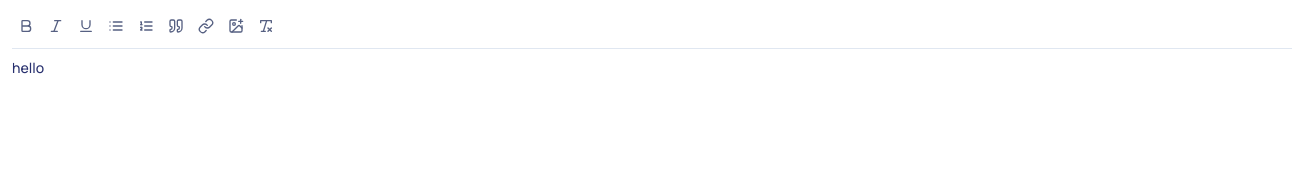
Test: links › refuses javascript: and data: addresses and says so
Step 1. Click the button named "Link" → point(206, 26), box [192,12,220,40]
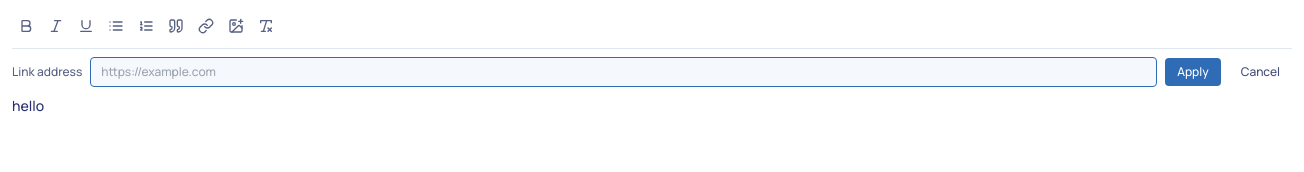
Step 2. Type "javascript:alert(1)" into the field labelled "Link address" → point(624, 72), box [90,57,1157,87]
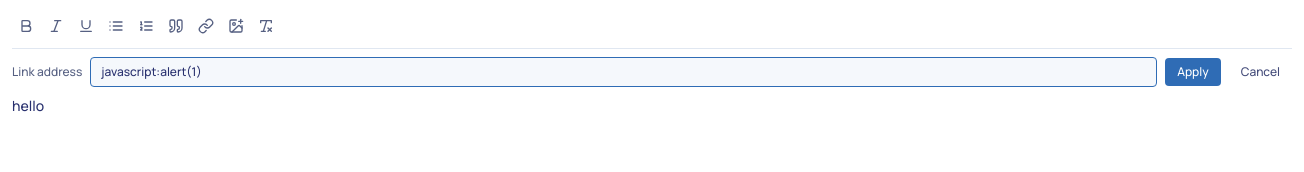
Step 3. Click the button "Apply" → point(1193, 72), box [1165,58,1221,86]
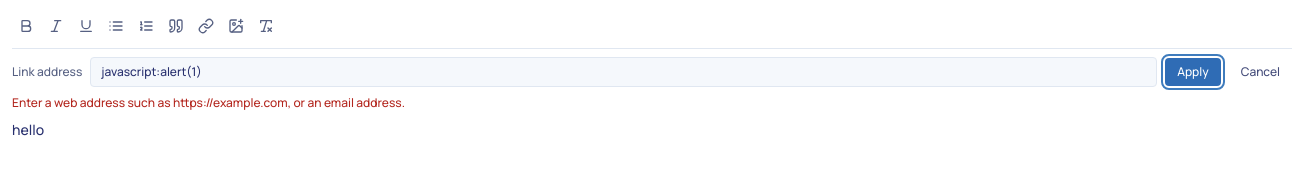
Now the message shows "web address", box [12,94,405,111]
